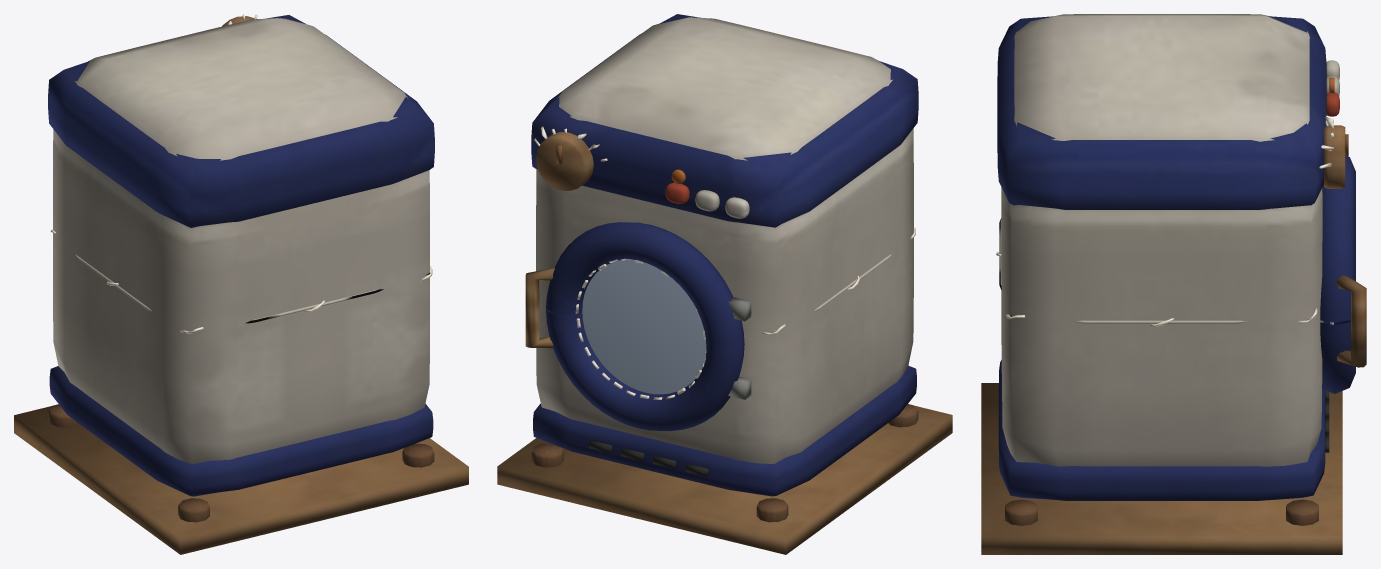
Rendered from table_dryer.glb.
3 views of the same model, side by side, from view 1: azimuth 30°, elevation 25°; view 2: azimuth 150°, elevation 25°; view 3: azimuth 270°, elevation 25° (orthographic). The views are drawn at different scales.
Parts seen in each view (by area): view 1: table_dryer_felt_cream, table_dryer_felt_navy2, table_dryer_wood, table_dryer_button; view 2: table_dryer_felt_cream, table_dryer_felt_navy2, table_dryer_wood, table_dryer_glass, table_dryer_button, table_dryer_thread, table_dryer_felt_ivory, table_dryer_felt_charcoal, table_dryer_felt_tin; view 3: table_dryer_felt_cream, table_dryer_felt_navy2, table_dryer_wood, table_dryer_button.
Part boxes in pixels (x1=…): table_dryer_felt_cream: x1=53, y1=18, x2=430, y2=464; table_dryer_felt_navy2: x1=48, y1=15, x2=434, y2=496; table_dryer_wood: x1=14, y1=16, x2=468, y2=554; table_dryer_button: x1=48, y1=404, x2=434, y2=522; table_dryer_felt_cream: x1=536, y1=17, x2=914, y2=463; table_dryer_felt_navy2: x1=531, y1=14, x2=918, y2=496; table_dryer_wood: x1=497, y1=132, x2=952, y2=554; table_dryer_glass: x1=582, y1=259, x2=706, y2=394; table_dryer_button: x1=531, y1=404, x2=918, y2=522; table_dryer_thread: x1=534, y1=126, x2=915, y2=400; table_dryer_felt_ivory: x1=695, y1=190, x2=749, y2=218; table_dryer_felt_charcoal: x1=589, y1=440, x2=708, y2=476; table_dryer_felt_tin: x1=728, y1=297, x2=751, y2=399; table_dryer_felt_cream: x1=999, y1=14, x2=1322, y2=466; table_dryer_felt_navy2: x1=997, y1=16, x2=1355, y2=500; table_dryer_wood: x1=981, y1=125, x2=1366, y2=554; table_dryer_button: x1=1005, y1=499, x2=1318, y2=525.
Bounding box in the file's own units: 0.54 × 0.69 × 0.5757.
15 materials, 12 textured.
